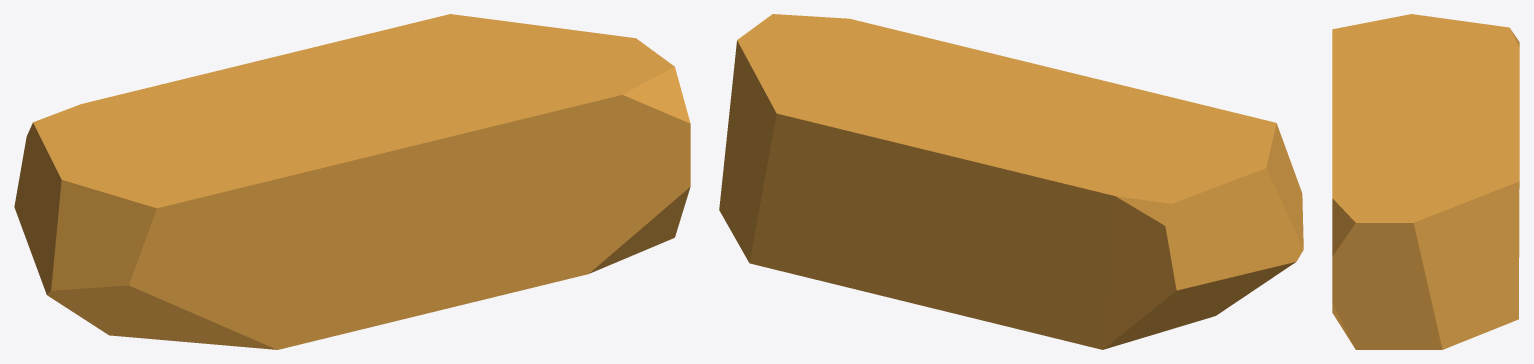
Rendered from egypt-stone-block.fbx.
3 views of the same model, side by side, from view 1: azimuth 30°, elevation 25°; view 2: azimuth 150°, elevation 25°; view 3: azimuth 270°, elevation 25° (orthographic). The views are drawn at different scales.
Visible parts, largest first — view 1: egypt-stone-block; view 2: egypt-stone-block; view 3: egypt-stone-block.
Part boxes in pixels (x1=…): egypt-stone-block: x1=14, y1=14, x2=690, y2=349; egypt-stone-block: x1=719, y1=14, x2=1303, y2=349; egypt-stone-block: x1=1332, y1=14, x2=1519, y2=349.
Bounding box in the file's own units: 8.83 × 2.4 × 3.2.
